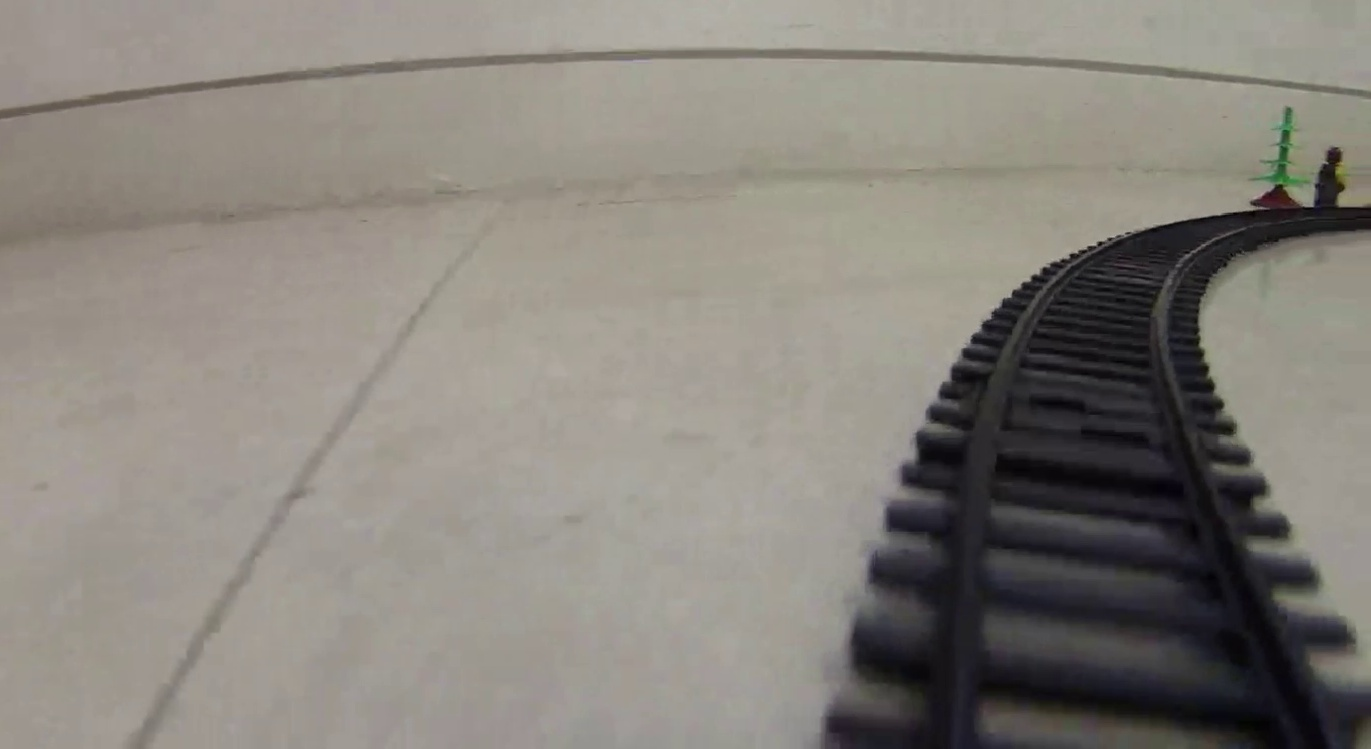people: (1313, 145, 1347, 209)
tree: (1248, 103, 1310, 209)
